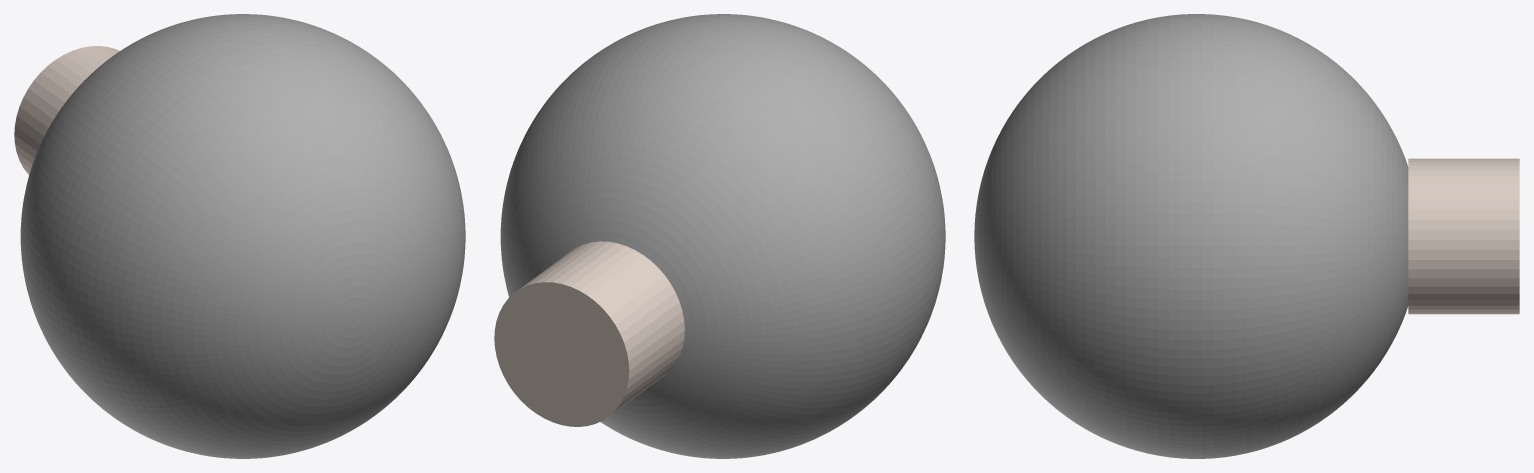
File: avatar_cyber_head.glb
3 views of the same model, side by side, from view 1: azimuth 30°, elevation 25°; view 2: azimuth 150°, elevation 25°; view 3: azimuth 270°, elevation 25° (orthographic).
Parts seen in each view (by area): view 1: world; view 2: world; view 3: world.
Boxes of the visible parts, <box> form: world: <box>14,14,465,458</box>; world: <box>494,14,945,458</box>; world: <box>974,14,1519,458</box>.
Size of the model in its own units: 2 by 2 by 2.45.
